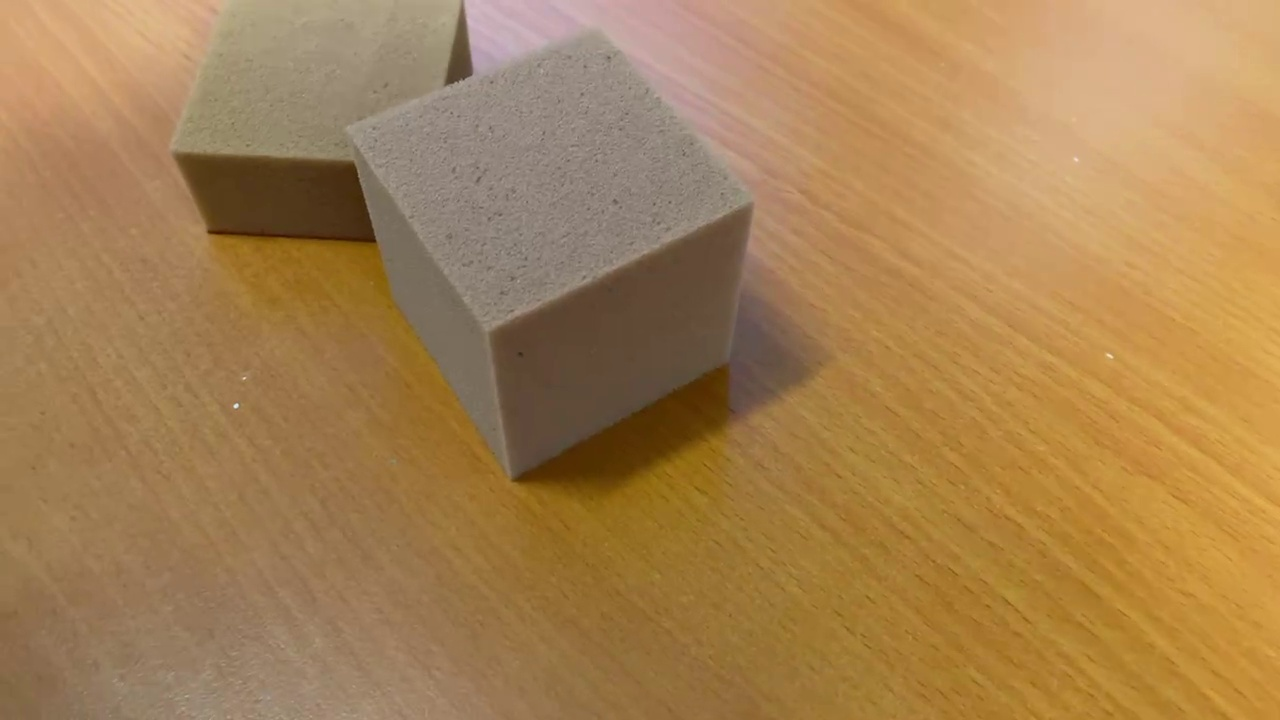Cube: (337, 17, 758, 484)
Cube_short: (166, 1, 484, 241)
